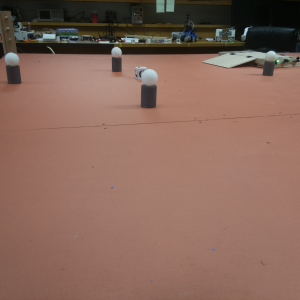corner: (1, 14, 18, 49)
obstacle: (142, 69, 156, 108), (4, 54, 22, 84), (263, 50, 277, 77), (110, 46, 122, 73)
slope: (208, 53, 255, 70)
